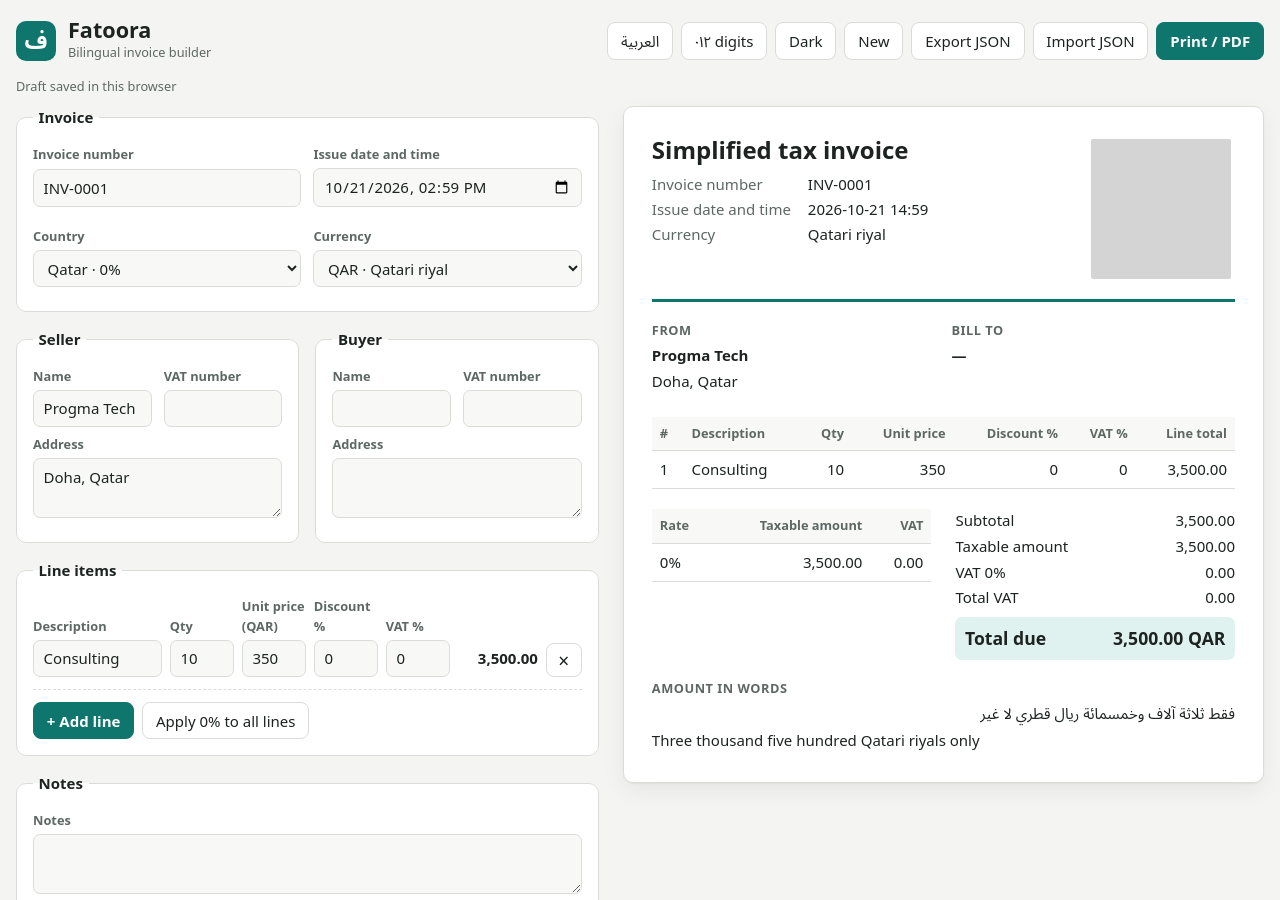
Test case: App › recalculates totals and saves the draft as line items change
The image size is (1280, 900).
Expected: the element showing "3,500.00 QAR" is shown, top-left (1113, 626), bottom-right (1225, 652)
Replace the text in the field labelled "Unit price (QAR)" with "١٢٫٥" at (274, 659), box top-left (242, 640), bottom-right (306, 677)
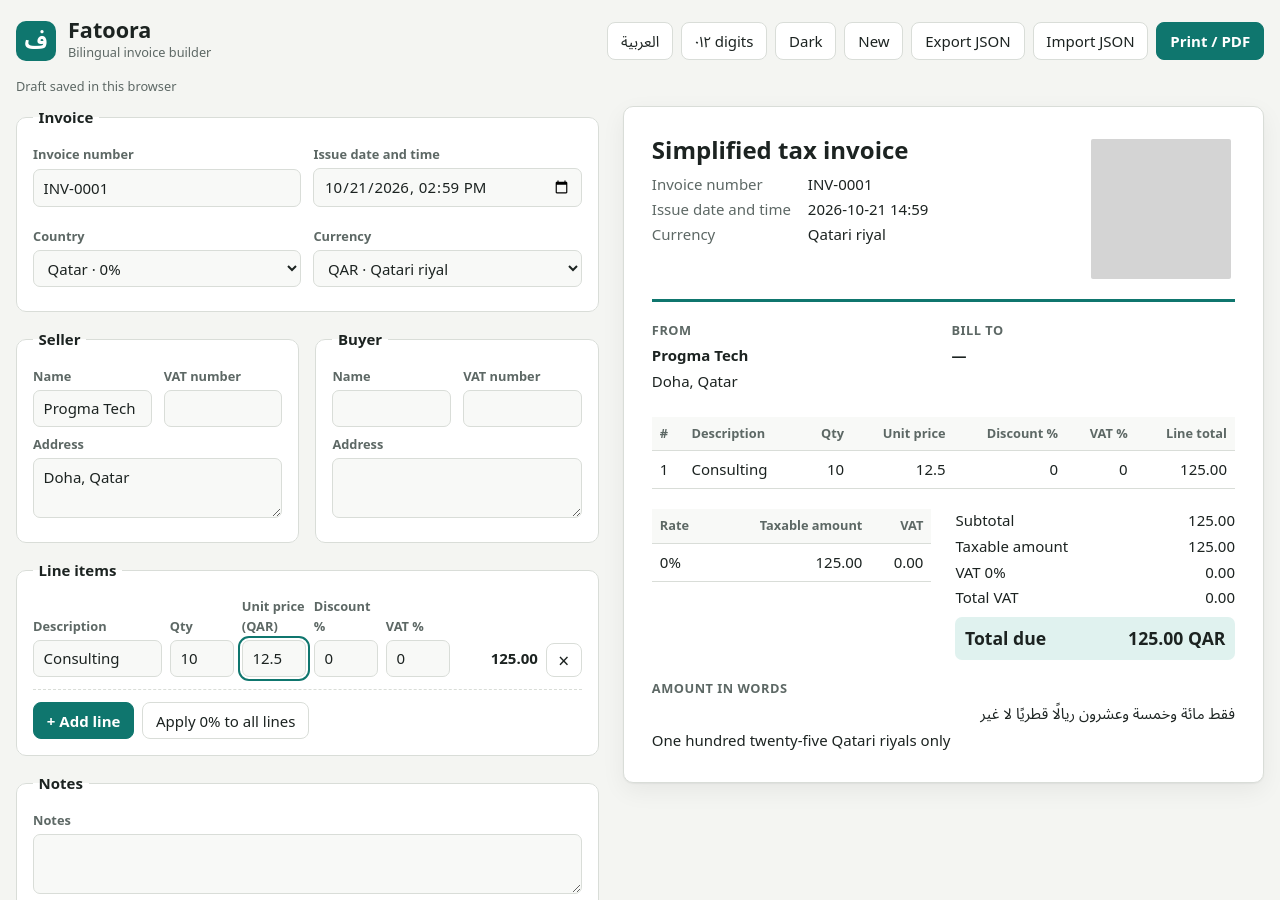
Now the field labelled "Unit price (QAR)" holds "12.5", box top-left (242, 640), bottom-right (306, 677)
Now the element showing "125.00 QAR" is shown, box top-left (1128, 626), bottom-right (1225, 652)
Now the text "One hundred twenty-five Qatari riyals only" is shown, box top-left (652, 730), bottom-right (950, 750)
